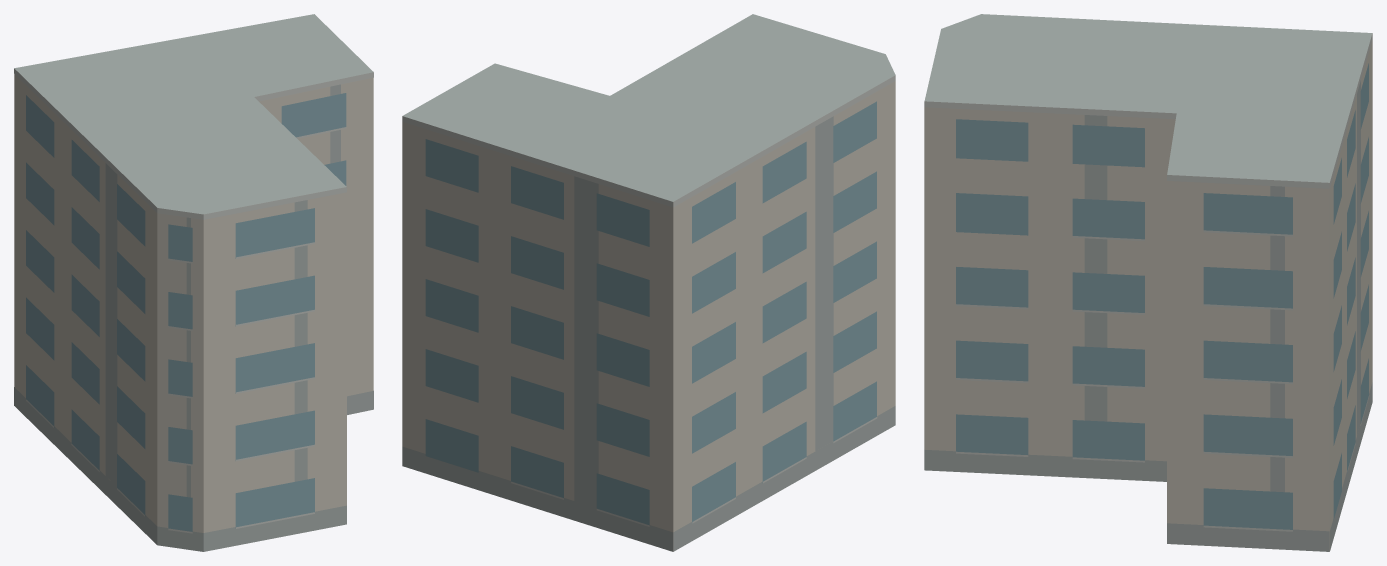
File: survey-upis-32565758.glb
The picture shows the model from 3 angles, left to right: view 1: azimuth 30°, elevation 25°; view 2: azimuth 150°, elevation 25°; view 3: azimuth 270°, elevation 25°; orthographic projection. The views are drawn at different scales.
Visible parts, largest first — view 1: survey-upis-32565758.tmp; view 2: survey-upis-32565758.tmp; view 3: survey-upis-32565758.tmp.
Boxes of the visible parts, x1=… form: survey-upis-32565758.tmp: x1=14, y1=14, x2=373, y2=551; survey-upis-32565758.tmp: x1=402, y1=14, x2=895, y2=551; survey-upis-32565758.tmp: x1=924, y1=14, x2=1372, y2=551.
Size of the model in its own units: 14.83 by 15.1 by 16.63.
